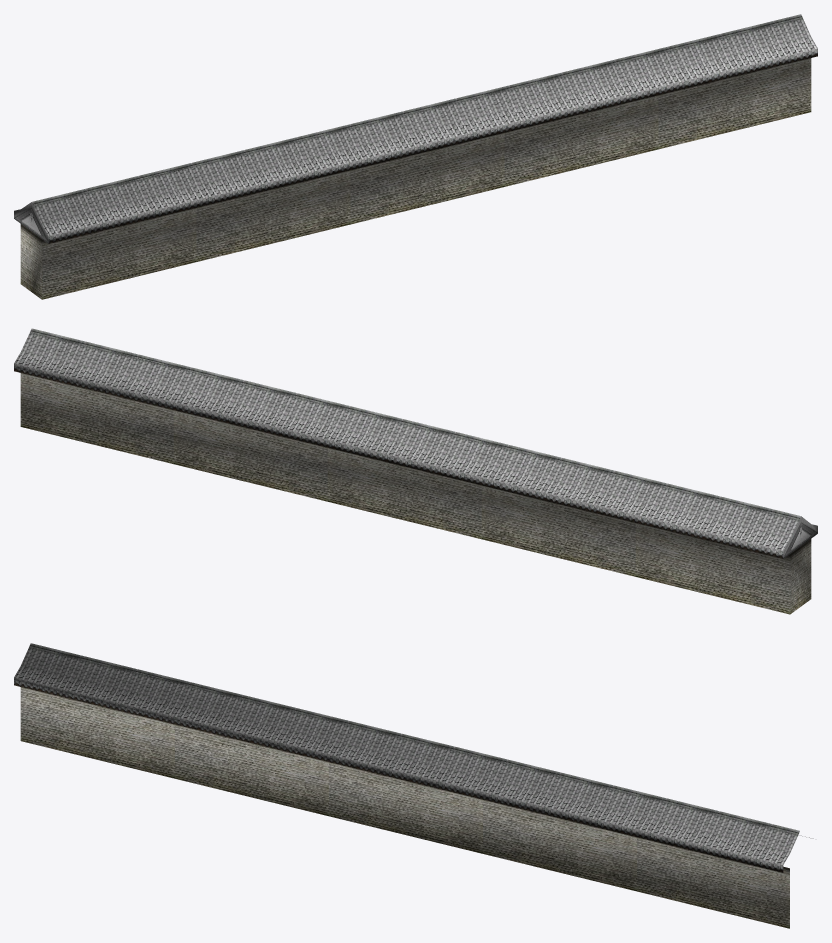
Rendered from cj_rich2_leftdam_1.glb.
The picture shows the model from 3 angles, top to bottom: view 1: azimuth 30°, elevation 25°; view 2: azimuth 150°, elevation 25°; view 3: azimuth 330°, elevation 25°; orthographic projection.
Visible parts, largest first — view 1: CJ_rich2_leftdam_1; view 2: CJ_rich2_leftdam_1; view 3: CJ_rich2_leftdam_1.
Boxes of the visible parts, x1,y1,x2,y2 form: CJ_rich2_leftdam_1: (14,14,817,299); CJ_rich2_leftdam_1: (14,328,817,614); CJ_rich2_leftdam_1: (14,643,813,928).
Size of the model in its own units: 20.53 by 2.31 by 1.6.
1 material, 1 textured.
